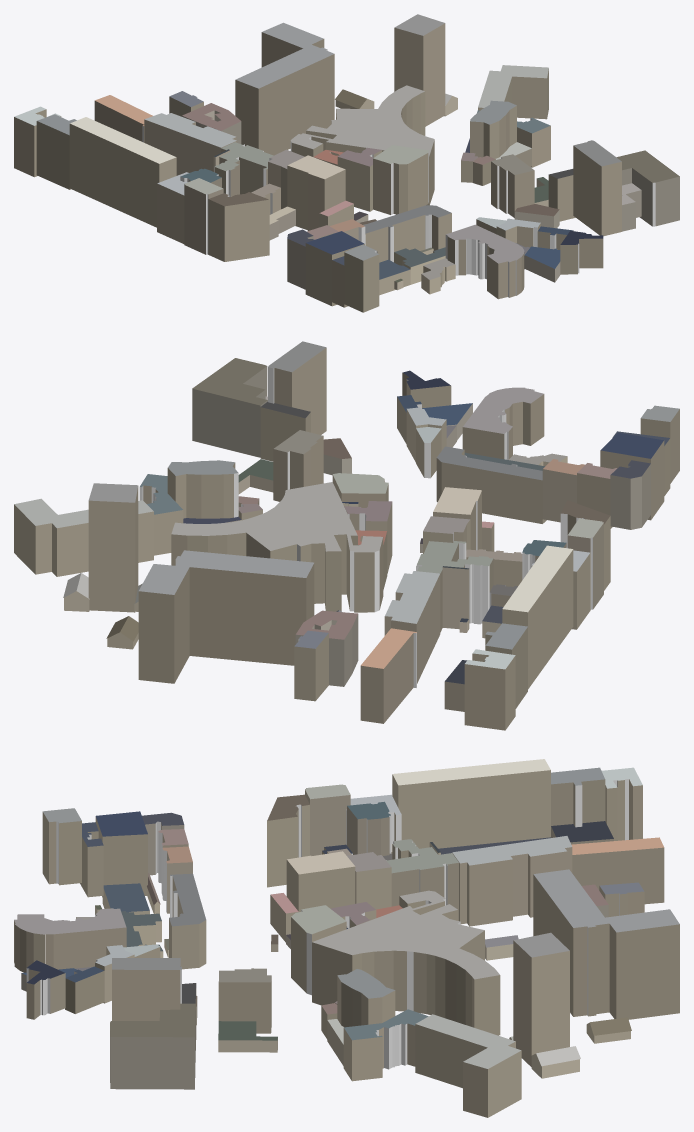
3 renders of one model, top to bottom at view 1: azimuth 30°, elevation 25°; view 2: azimuth 150°, elevation 25°; view 3: azimuth 270°, elevation 25°, orthographic. The views are drawn at different scales.
Parts seen in each view (by area): view 1: tuile; view 2: tuile; view 3: tuile.
Part boxes in pixels (x1,y1,x2,y2): tuile: [14, 14, 679, 312]; tuile: [14, 341, 679, 730]; tuile: [14, 759, 679, 1117].
Size of the model in its own units: 276 by 53.04 by 282.
